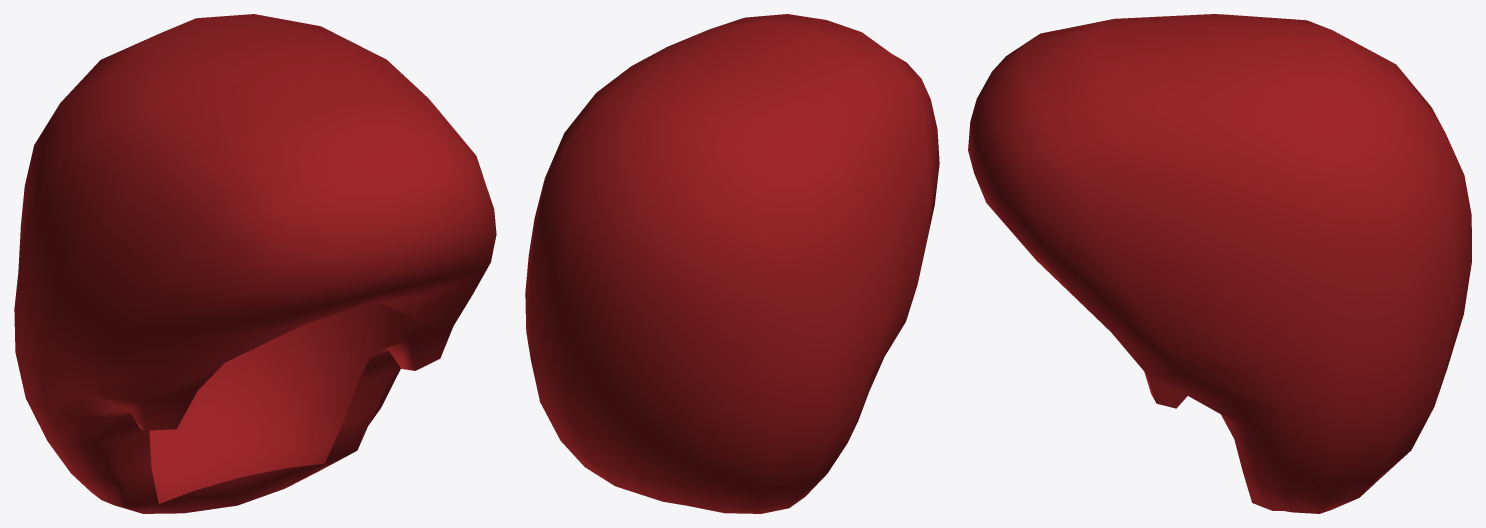
The model's file is NPC_RedHair5.gltf.
The picture shows the model from 3 angles, left to right: view 1: azimuth 30°, elevation 25°; view 2: azimuth 150°, elevation 25°; view 3: azimuth 270°, elevation 25°; orthographic projection. The views are drawn at different scales.
Parts seen in each view (by area): view 1: NPC_RedHair.005; view 2: NPC_RedHair.005; view 3: NPC_RedHair.005.
Boxes of the visible parts, x1,y1,x2,y2 form: NPC_RedHair.005: (14, 14, 496, 513); NPC_RedHair.005: (525, 14, 939, 513); NPC_RedHair.005: (968, 14, 1471, 513).
Bounding box in the file's own units: 0.5756 × 0.675 × 0.7007.
1 material, 1 textured.
